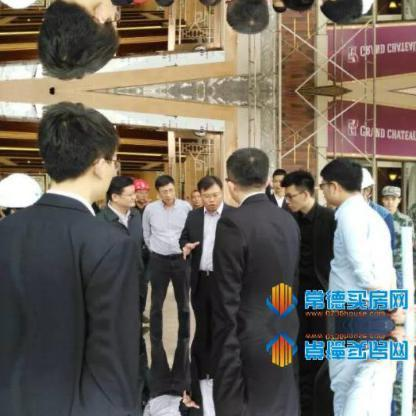Helmet: (129, 176, 149, 206)
No Helmet: (38, 101, 120, 197), (37, 0, 121, 78), (223, 142, 269, 200), (318, 152, 364, 206), (223, 0, 270, 36), (279, 166, 315, 212), (317, 0, 366, 27), (195, 170, 223, 210), (105, 173, 137, 208), (152, 171, 176, 202), (376, 180, 400, 209), (267, 164, 287, 196), (278, 0, 316, 13), (266, 0, 288, 15), (194, 0, 224, 9), (152, 0, 176, 8)
